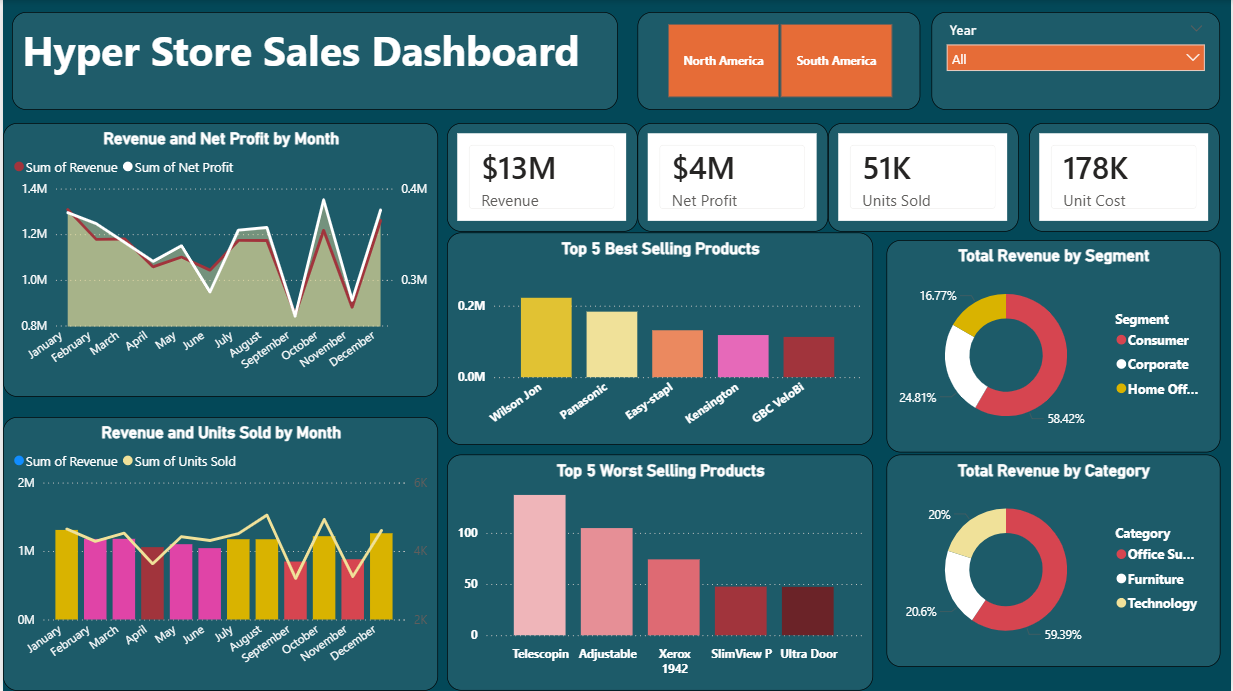

Layout of this report page (visuals, bound fields, positions):
{"tool":"powerbi","page":{"name":"Hyper Sale Dashboard","canvas":[1280,720],"ordinal":0},"visuals":[{"type":"textbox","box":[9.4,13.2,631.2,102],"z":0},{"type":"cardVisual","fields":{"Data":["Sum(HyperStoreDataSet.Revenue)"]},"box":[463,128.5,198.4,113.4],"z":1000},{"type":"cardVisual","fields":{"Data":["Sum(HyperStoreDataSet.Net Profit)"]},"box":[661.4,128.5,198.4,113.4],"z":2000},{"type":"cardVisual","fields":{"Data":["Sum(HyperStoreDataSet.Units Sold)"]},"box":[859.8,128.5,198.4,113.4],"z":3000},{"type":"cardVisual","fields":{"Data":["Sum(HyperStoreDataSet.Unit Cost)"]},"box":[1069.6,128.5,198.4,113.4],"z":4000},{"type":"lineChart","title":"Revenue and Net Profit by Month","fields":{"Y":["Sum(HyperStoreDataSet.Revenue)"],"Category":["HyperStoreDataSet.Delivery Date.Variation.Date Hierarchy.Month"],"Y2":["Sum(HyperStoreDataSet.Net Profit)"]},"box":[0,128.5,453.5,285.4],"z":5000},{"type":"lineStackedColumnComboChart","title":"Revenue and Units Sold by Month","fields":{"Category":["HyperStoreDataSet.Delivery Date.Variation.Date Hierarchy.Month"],"Y":["Sum(HyperStoreDataSet.Revenue)"],"Y2":["Sum(HyperStoreDataSet.Units Sold)"]},"box":[0,434.6,453.5,285.4],"z":6000},{"type":"columnChart","title":"Top 5 Best Selling Products","fields":{"Category":["HyperStoreDataSet.Product Name"],"Y":["Sum(HyperStoreDataSet.Revenue)"]},"box":[463,241.9,444.1,221.1],"z":7000},{"type":"columnChart","title":"Top 5 Worst Selling Products","fields":{"Category":["HyperStoreDataSet.Product Name"],"Y":["Sum(HyperStoreDataSet.Revenue)"]},"box":[463,474.3,444.1,245.7],"z":8000},{"type":"donutChart","title":"Total Revenue by Segment","fields":{"Y":["Sum(HyperStoreDataSet.Revenue)"],"Category":["HyperStoreDataSet.Segment"]},"box":[920.3,249.5,347.7,221.1],"z":9000},{"type":"donutChart","title":"Total Revenue by Category","fields":{"Y":["Sum(HyperStoreDataSet.Revenue)"],"Category":["HyperStoreDataSet.Category"]},"box":[920.3,474.3,347.7,221.1],"z":10000},{"type":"slicer","fields":{"Values":["HyperStoreDataSet.Country (groups)"]},"box":[661.4,13.2,294.8,102],"z":11000},{"type":"slicer","fields":{"Values":["HyperStoreDataSet.Shipping Date.Variation.Date Hierarchy.Year"]},"box":[967.6,13.2,300.5,102],"z":12000}]}

Visuals, with their boxes in screenshot pixels (x1, y1, x2, y2), scaled from the page's 1280x720 canvas onto the 1233x691 screenshot:
textbox: box(9, 13, 617, 111)
cardVisual - Sum(HyperStoreDataSet.Revenue): box(446, 123, 637, 232)
cardVisual - Sum(HyperStoreDataSet.Net Profit): box(637, 123, 828, 232)
cardVisual - Sum(HyperStoreDataSet.Units Sold): box(828, 123, 1019, 232)
cardVisual - Sum(HyperStoreDataSet.Unit Cost): box(1030, 123, 1221, 232)
"Revenue and Net Profit by Month" lineChart: box(0, 123, 437, 397)
"Revenue and Units Sold by Month" lineStackedColumnComboChart: box(0, 417, 437, 690)
"Top 5 Best Selling Products" columnChart: box(446, 232, 874, 444)
"Top 5 Worst Selling Products" columnChart: box(446, 455, 874, 690)
"Total Revenue by Segment" donutChart: box(887, 239, 1221, 452)
"Total Revenue by Category" donutChart: box(887, 455, 1221, 667)
slicer - HyperStoreDataSet.Country (groups): box(637, 13, 921, 111)
slicer - HyperStoreDataSet.Shipping Date.Variation.Date Hierarchy.Year: box(932, 13, 1222, 111)
